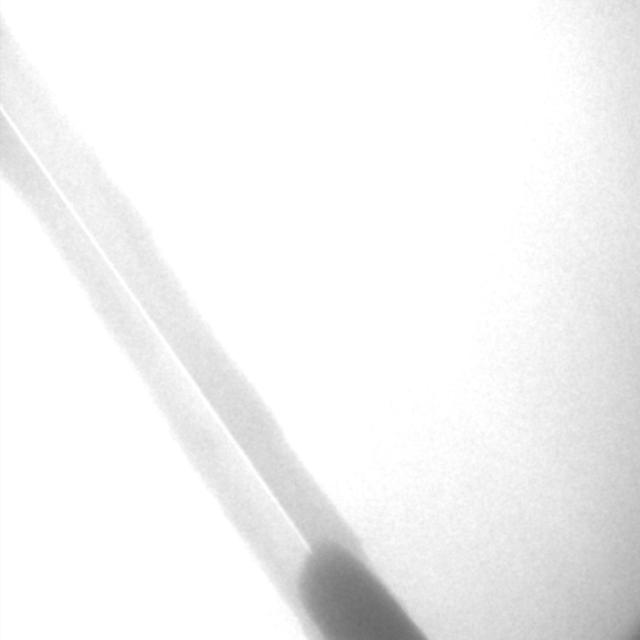broken arc: (2, 108, 312, 554)
